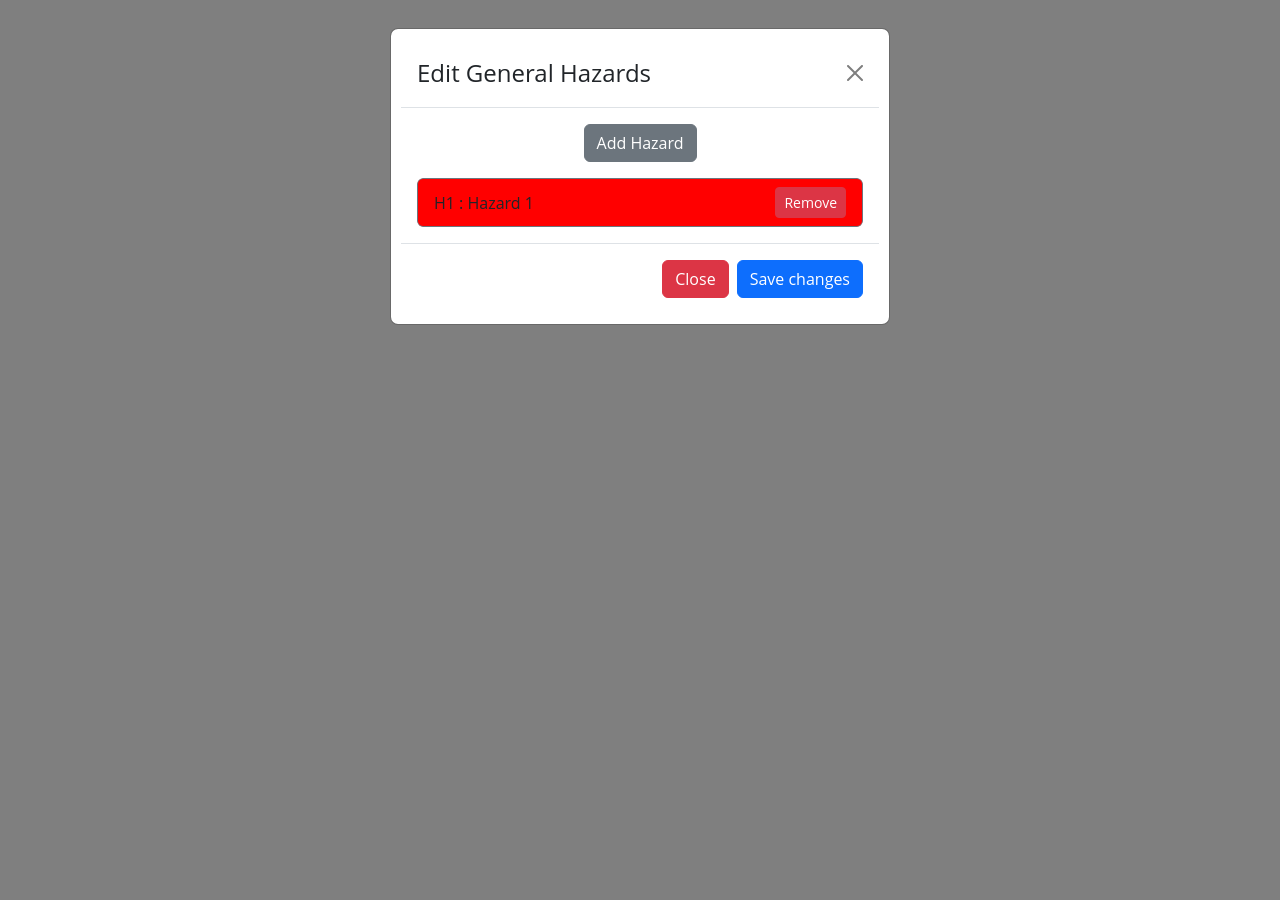
it: EditGeneralHazardsModal › opens SelectHazardsModal when Add Hazard button is clicked
The width and height of the screenshot is (1280, 900).
Click the button "Add Hazard" at (640, 143), box [584,124,696,162]
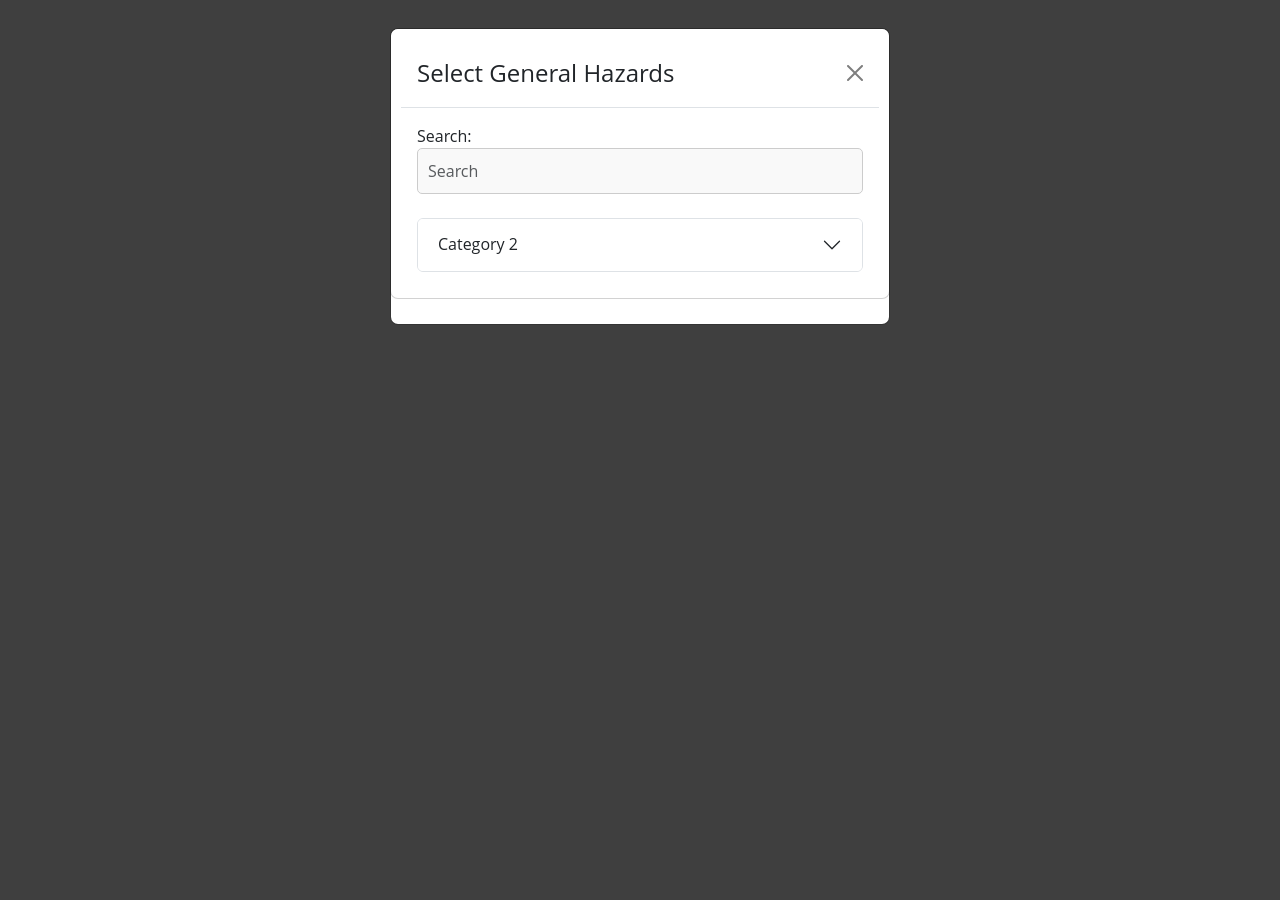
Check: the text "Select General Hazards" is shown, box [417,55,674,91]
